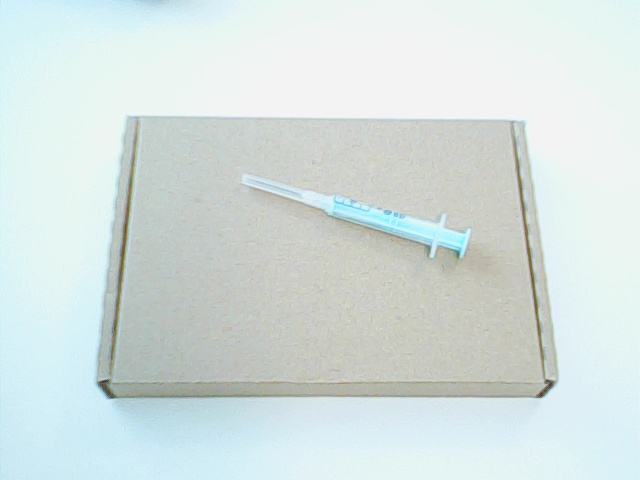syringe: (234, 169, 478, 266)
